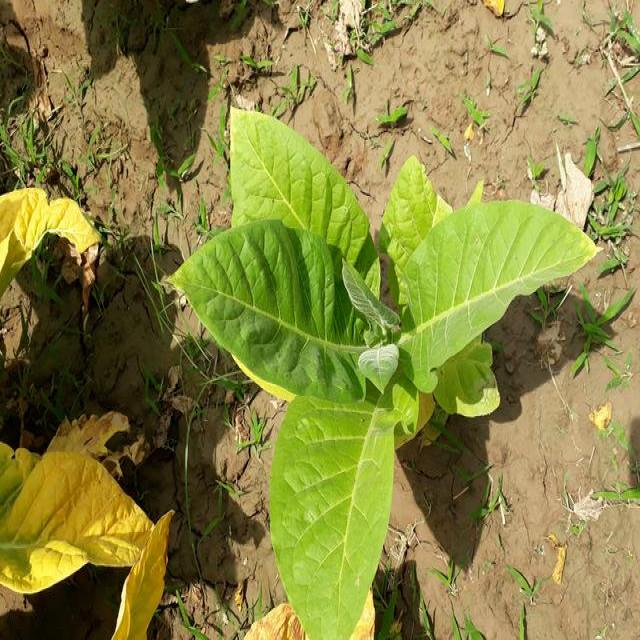crop: (184, 109, 601, 640), (0, 436, 179, 640), (2, 192, 98, 294)
